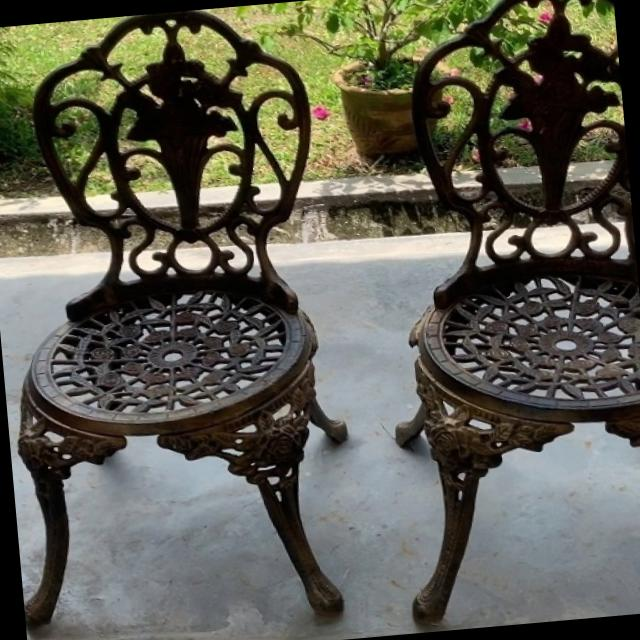Chair: (0, 0, 370, 640), (340, 0, 640, 628)
